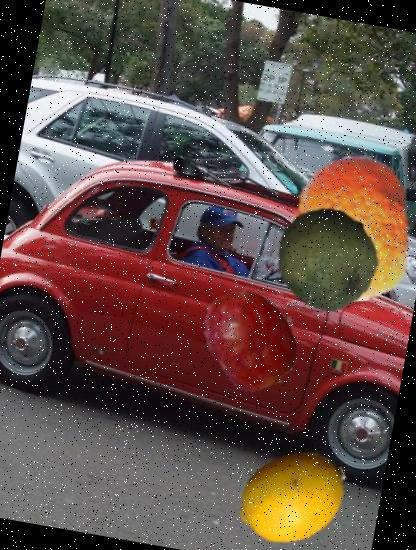Grape: (191, 278, 310, 399)
Lemon: (228, 431, 359, 550)
Limes: (266, 198, 387, 318)
Mandarine: (266, 144, 416, 313)
